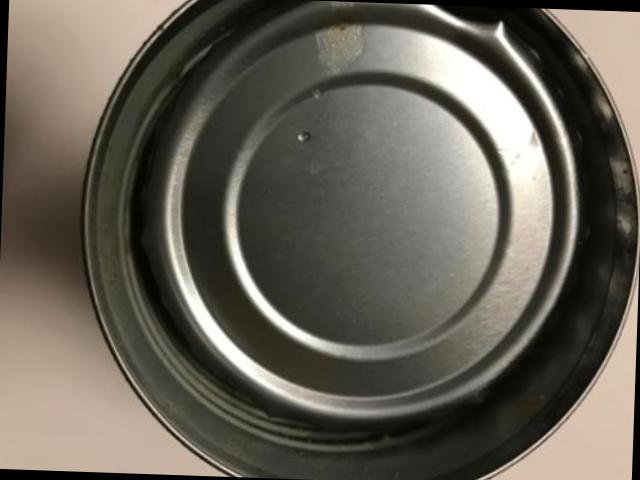metal: (85, 0, 639, 480)
